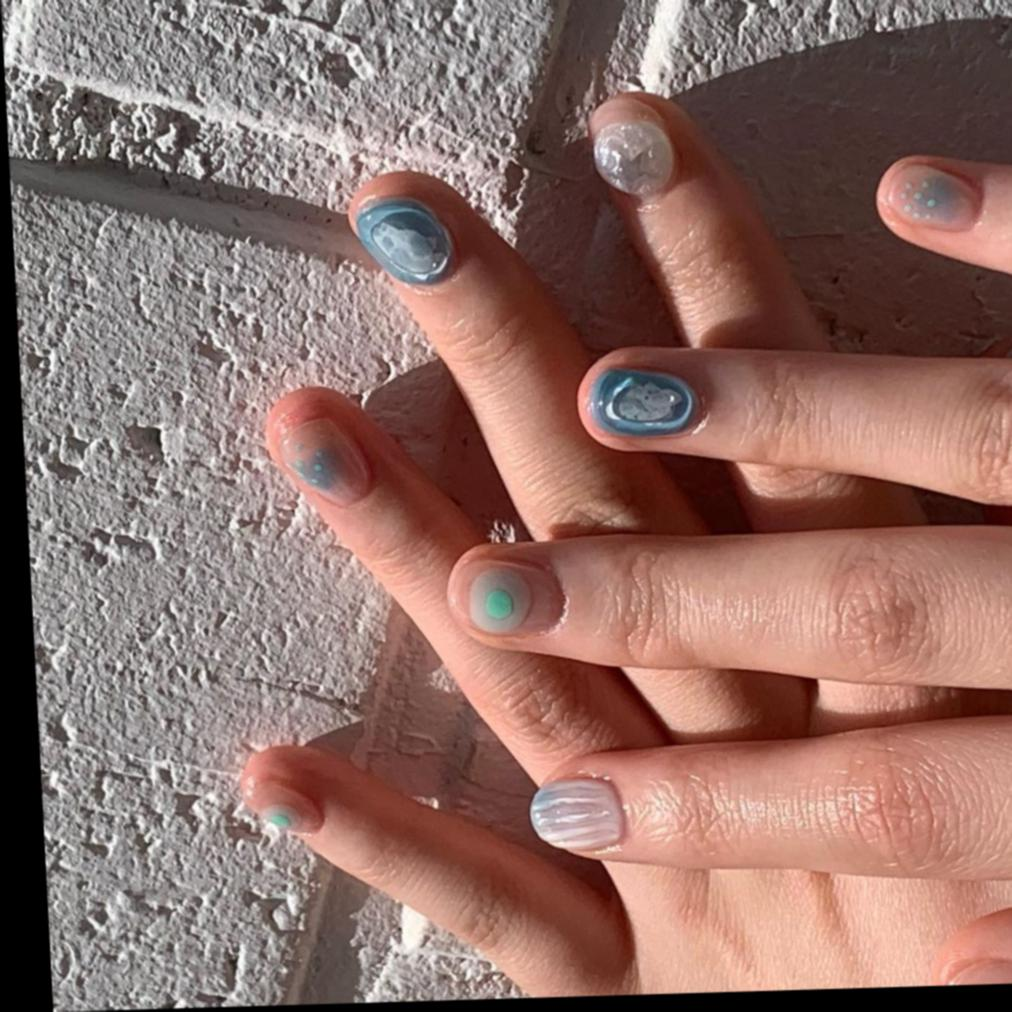nail: (350, 195, 458, 289), (582, 364, 703, 442), (275, 416, 373, 511), (525, 777, 625, 855), (588, 116, 678, 199), (887, 165, 982, 236), (463, 566, 534, 636), (246, 781, 323, 838)
